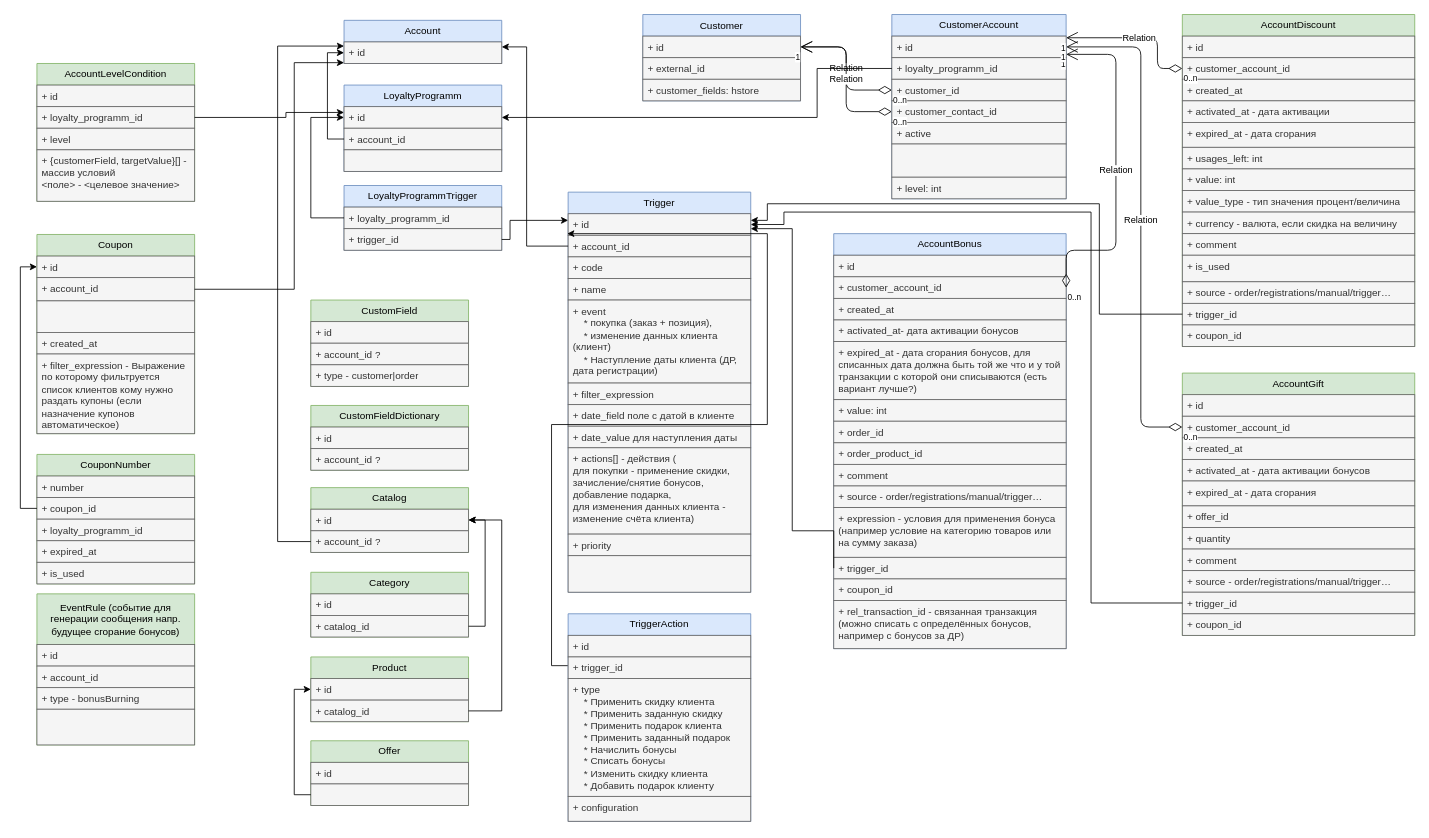
Some shapes in this 1429 by 838 pixel diagram are drawn without their labels. Each missing label, with the centre of its shape:
"+ actions[] - действия по срабатывании купона" goes at (115,316).
"+ expired_at - Дата когда механика должна прекратить работу" goes at (659,573).
"+ numbers: int[] (массив номеров карт, привязанных к счету)" goes at (978,160).
"+ product_id" goes at (389,794).
"+ settings" goes at (422,160).
"+ time_shift - смещение по времени" goes at (115,726).
